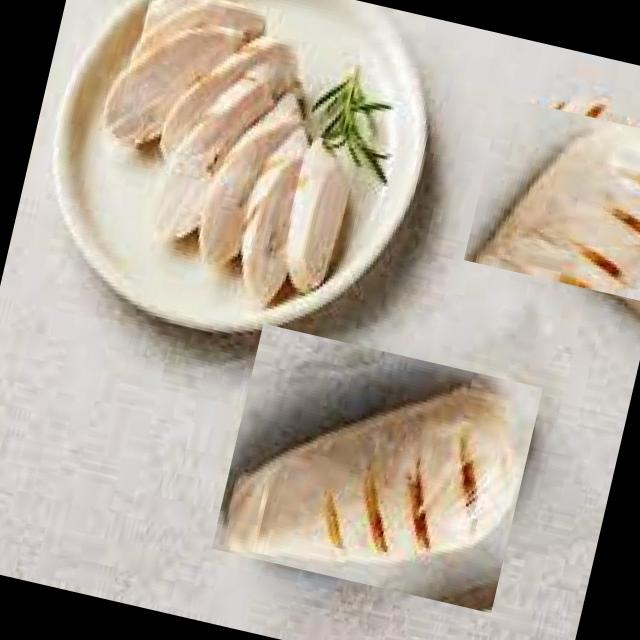chicken: (210, 322, 542, 614), (472, 85, 640, 316)
